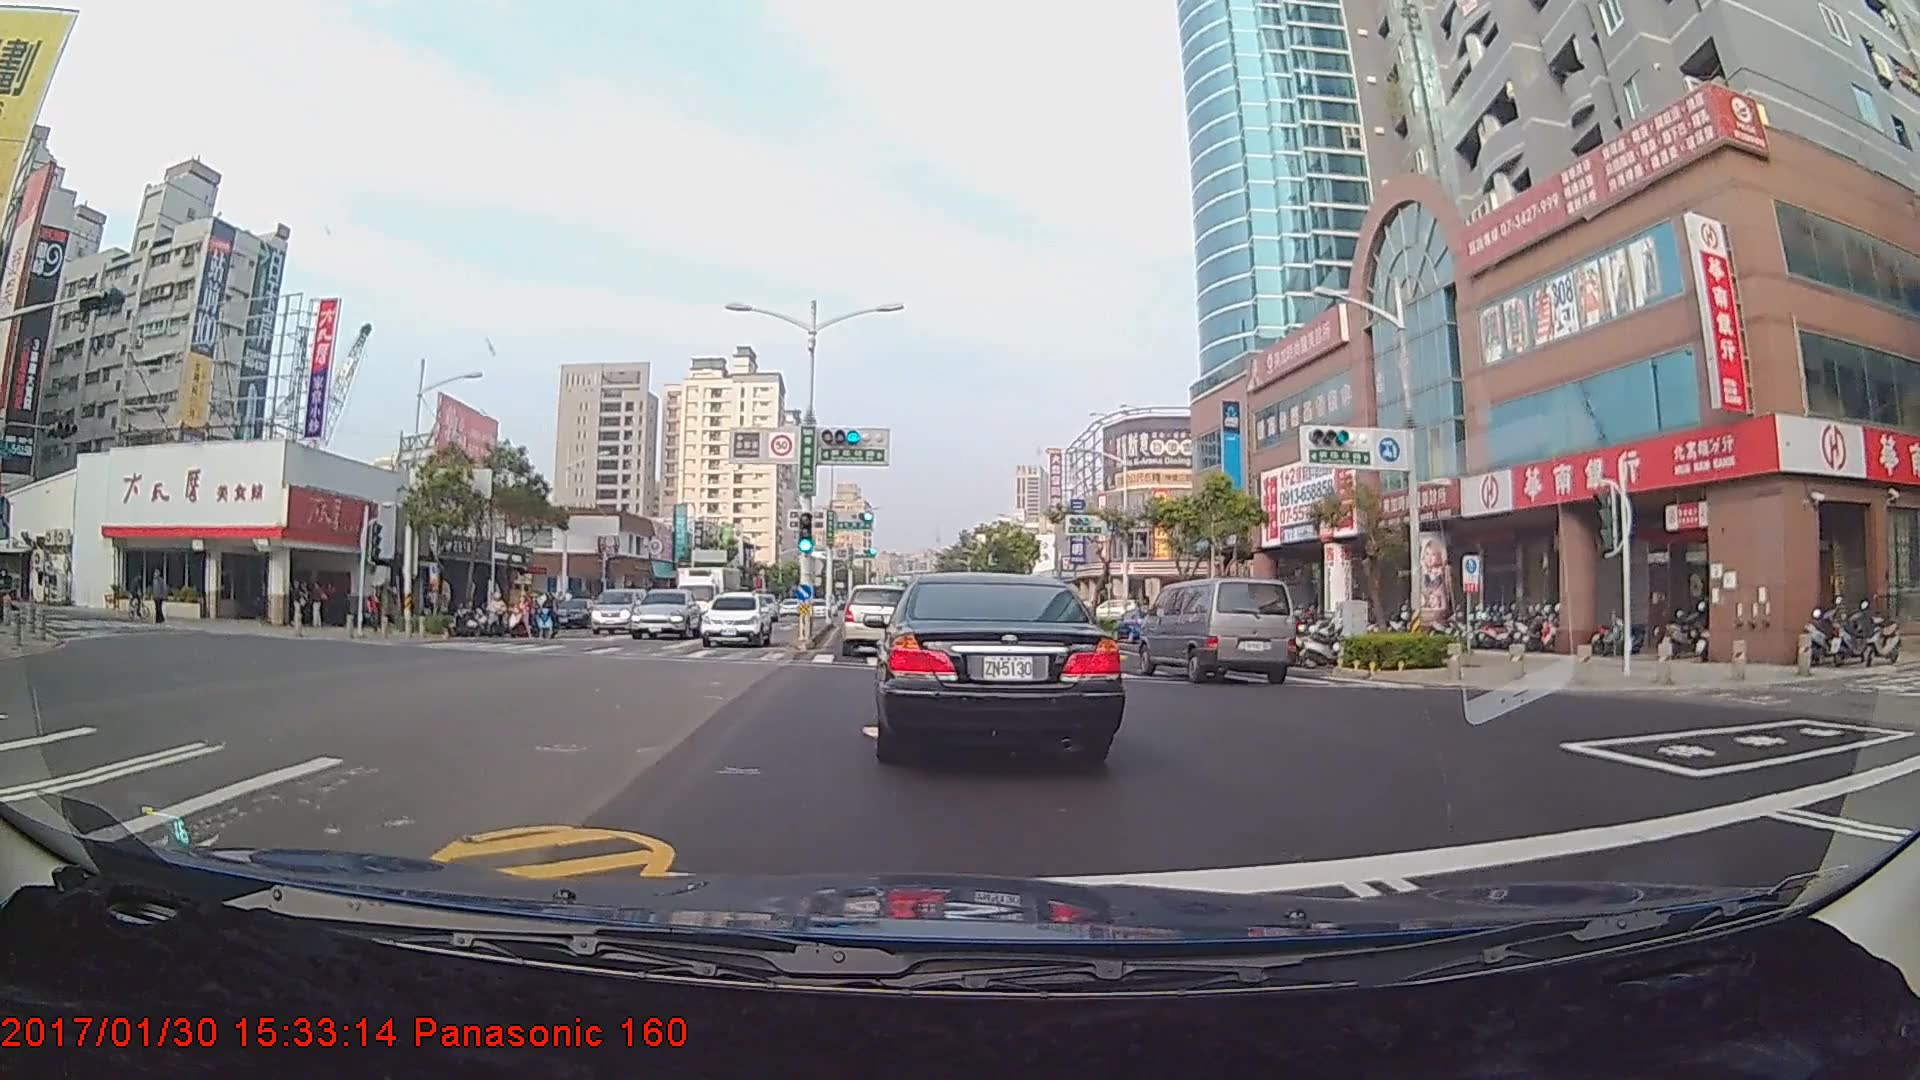pedestrian: (149, 569, 172, 626), (291, 579, 311, 633), (307, 580, 327, 629)
vehicle: (873, 566, 1118, 763), (1143, 575, 1296, 686), (839, 581, 918, 657), (673, 560, 744, 632), (700, 592, 773, 648), (628, 588, 702, 641), (587, 585, 647, 635)
